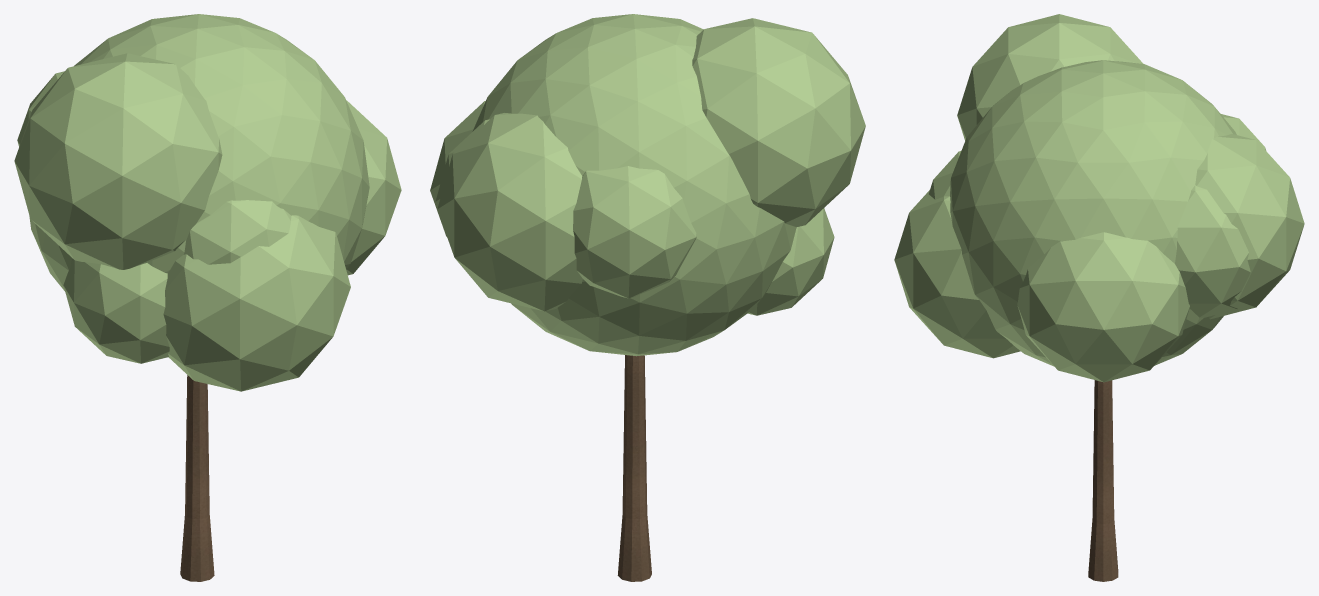
Rendered from tree_b.glb.
3 views of the same model, side by side, from view 1: azimuth 30°, elevation 25°; view 2: azimuth 150°, elevation 25°; view 3: azimuth 270°, elevation 25° (orthographic). The views are drawn at different scales.
Visible parts, largest first — view 1: tree_b_leaf2, tree_b_bark; view 2: tree_b_leaf2, tree_b_bark; view 3: tree_b_leaf2, tree_b_bark.
Boxes of the visible parts, bbox=[...] form: tree_b_leaf2: bbox=[14, 14, 401, 391]; tree_b_bark: bbox=[180, 375, 214, 581]; tree_b_leaf2: bbox=[430, 14, 865, 356]; tree_b_bark: bbox=[617, 355, 651, 581]; tree_b_leaf2: bbox=[894, 14, 1304, 382]; tree_b_bark: bbox=[1088, 380, 1118, 581].
Bounding box in the file's own units: 4.62 × 6.38 × 4.66.
2 materials, 1 textured.
